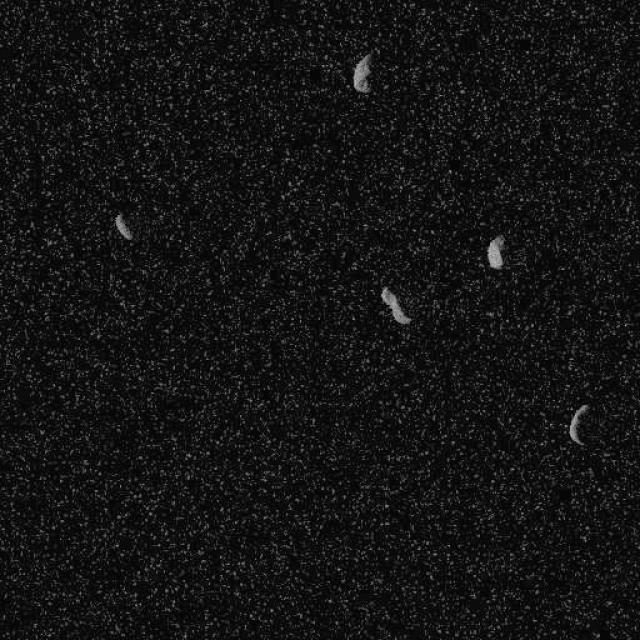D2: (379, 286, 411, 325), (568, 402, 590, 447), (352, 50, 372, 92), (485, 234, 505, 268), (114, 212, 134, 240)
